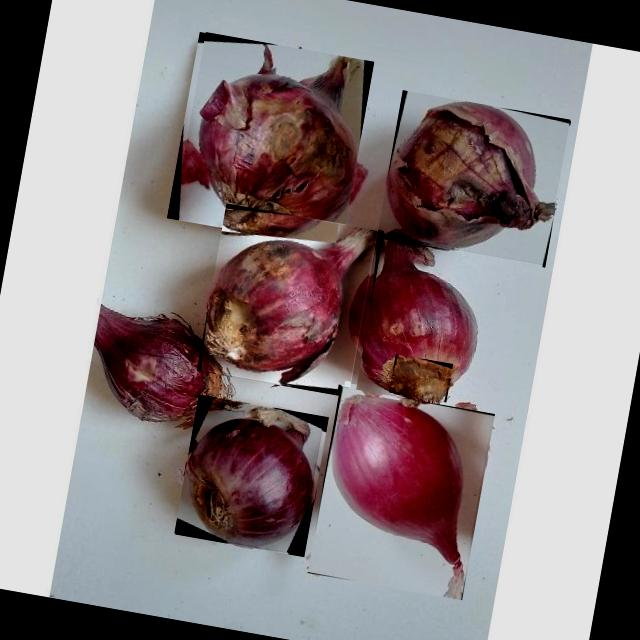healthy: (332, 393, 463, 598), (186, 408, 312, 546)
rotten: (180, 48, 358, 236), (207, 228, 376, 384), (386, 102, 554, 248), (388, 354, 452, 402), (122, 350, 173, 392)
